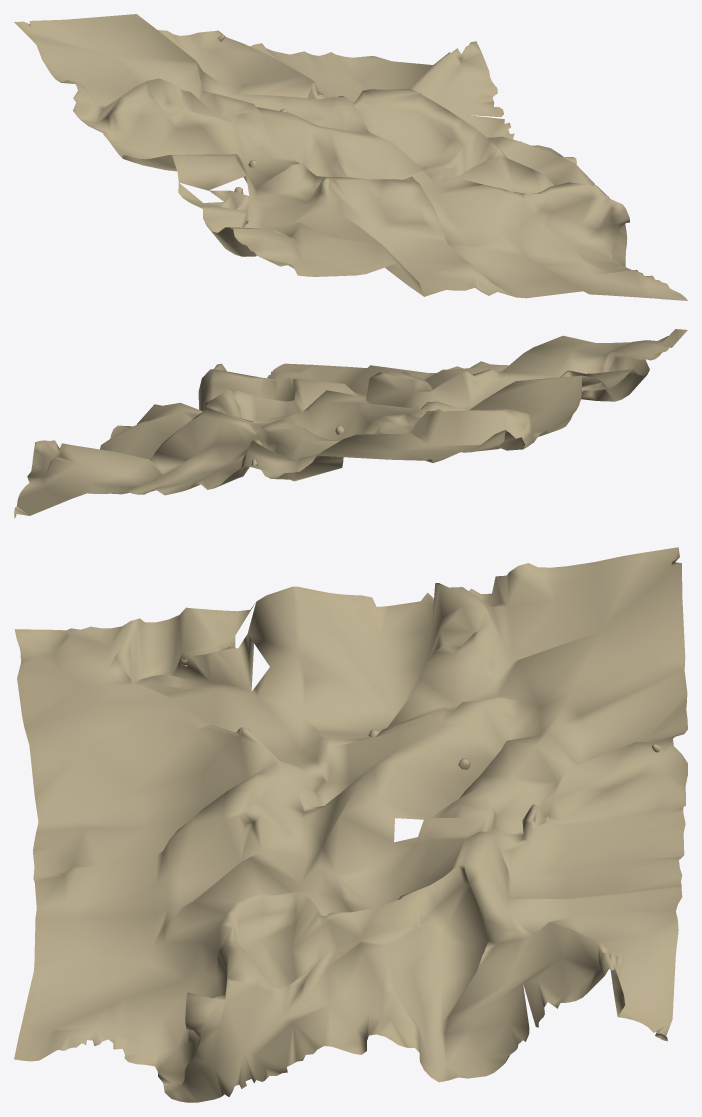
Rendered from ribbon_tape.glb.
The picture shows the model from 3 angles, top to bottom: view 1: azimuth 30°, elevation 25°; view 2: azimuth 150°, elevation 25°; view 3: azimuth 270°, elevation 25°; orthographic projection. The views are drawn at different scales.
Parts seen in each view (by area): view 1: tripo_node_70fdb7cd-aa04-4d68-939e-33615350becd; view 2: tripo_node_70fdb7cd-aa04-4d68-939e-33615350becd; view 3: tripo_node_70fdb7cd-aa04-4d68-939e-33615350becd.
Part boxes in pixels (box(x1,y1,x2,y2)): tripo_node_70fdb7cd-aa04-4d68-939e-33615350becd: box(14, 14, 687, 300); tripo_node_70fdb7cd-aa04-4d68-939e-33615350becd: box(14, 329, 687, 518); tripo_node_70fdb7cd-aa04-4d68-939e-33615350becd: box(14, 547, 687, 1102).
Size of the model in its own units: 0.9995 by 0.4692 by 0.9819.
1 material, 1 textured.
